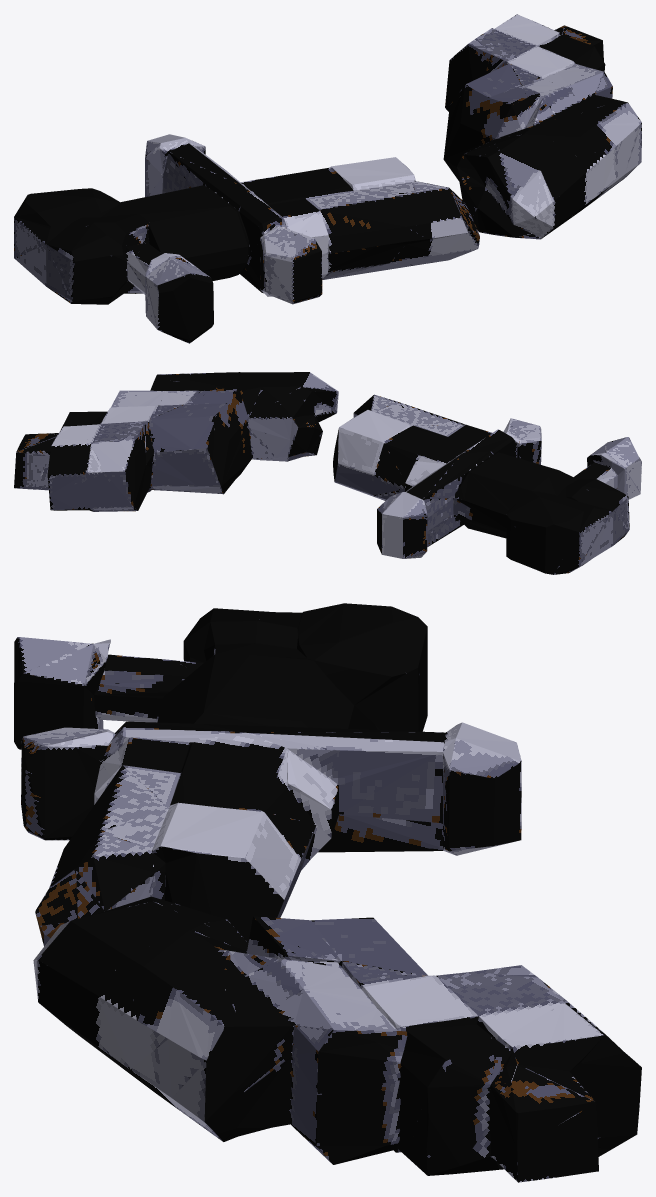
The picture shows the model from 3 angles, top to bottom: view 1: azimuth 30°, elevation 25°; view 2: azimuth 150°, elevation 25°; view 3: azimuth 270°, elevation 25°; orthographic projection. The views are drawn at different scales.
Parts seen in each view (by area): view 1: OBJ0c9; view 2: OBJ0c9; view 3: OBJ0c9.
Part boxes in pixels (bbox=[...]): OBJ0c9: bbox=[14, 14, 641, 343]; OBJ0c9: bbox=[14, 372, 641, 574]; OBJ0c9: bbox=[14, 603, 641, 1182].
Size of the model in its own units: 0.3205 by 0.0506 by 0.1732.
1 material, 1 textured.
